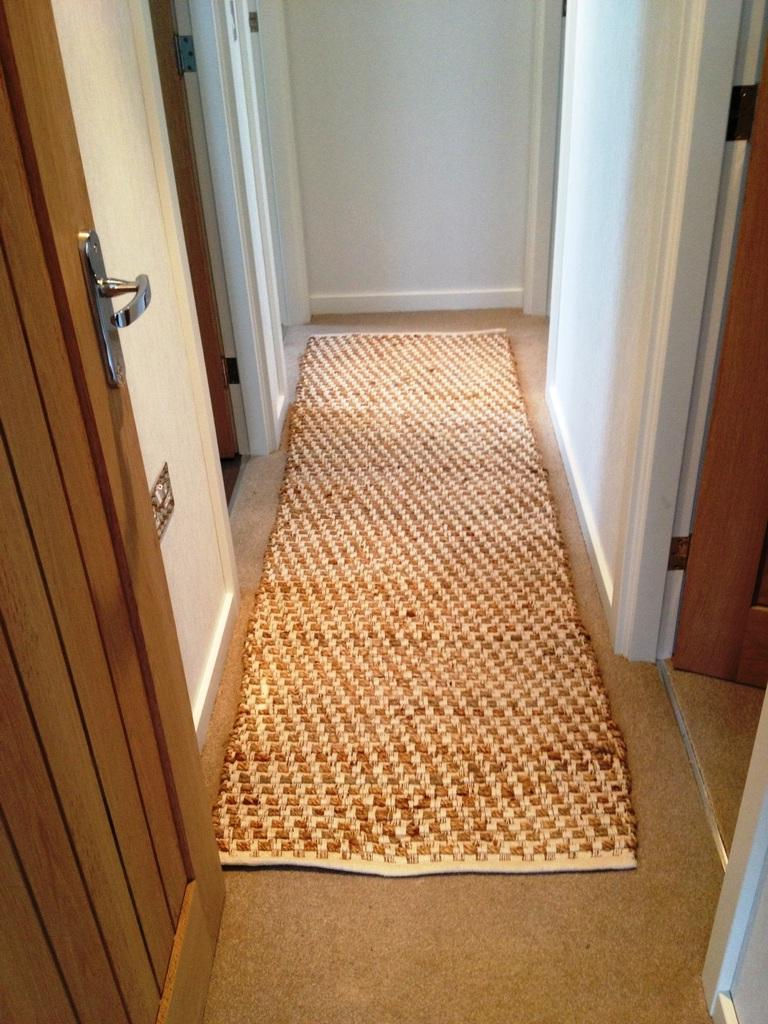door: (0, 112, 67, 1024), (702, 298, 758, 700)
handle: (94, 252, 150, 358)
